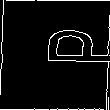P_W: (7, 36, 103, 74)
